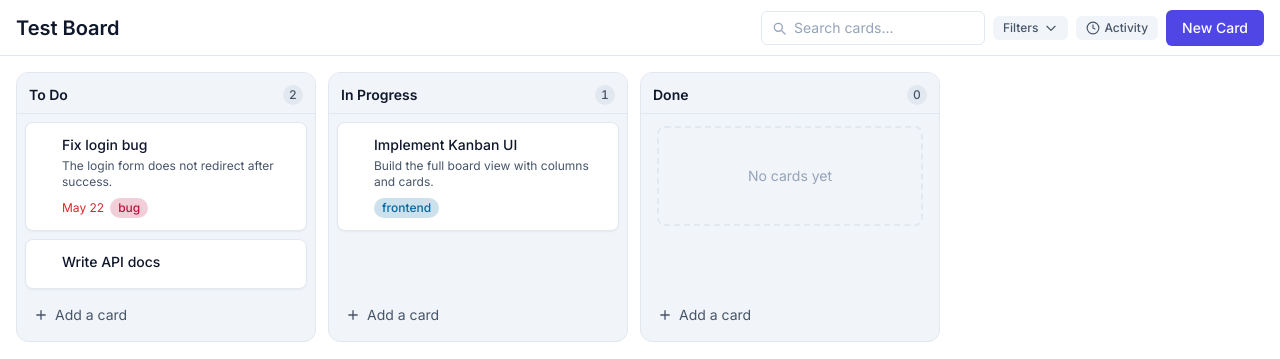
BoardView search and filter › filter dropdown shows labels from the API even if not assigned to any card (AC-ENTRY-2)
This screenshot has width=1280, height=359.
Click the button "Filters": {"x": 1031, "y": 28} [993,16,1068,40]
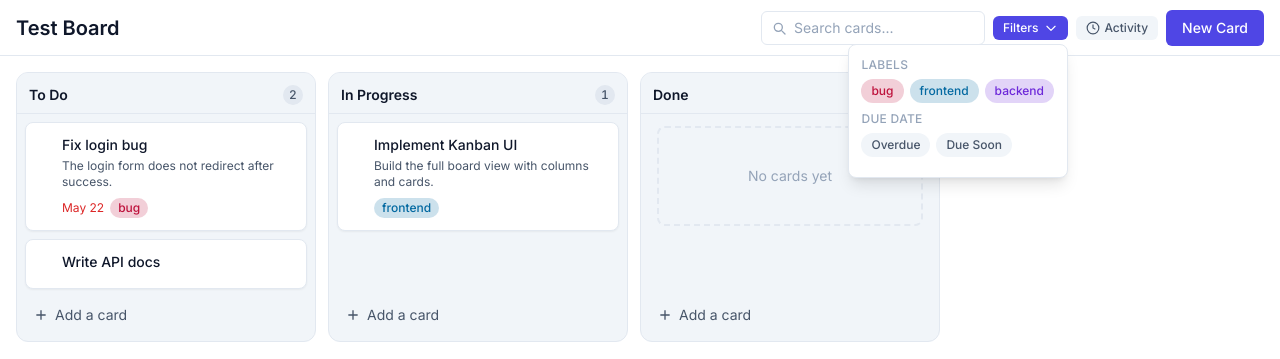
Expected: the button "bug" is shown, [861,78,904,102]
Expected: the button "frontend" is shown, [910,78,979,102]
Expected: the button "backend" is shown, [985,78,1054,102]
